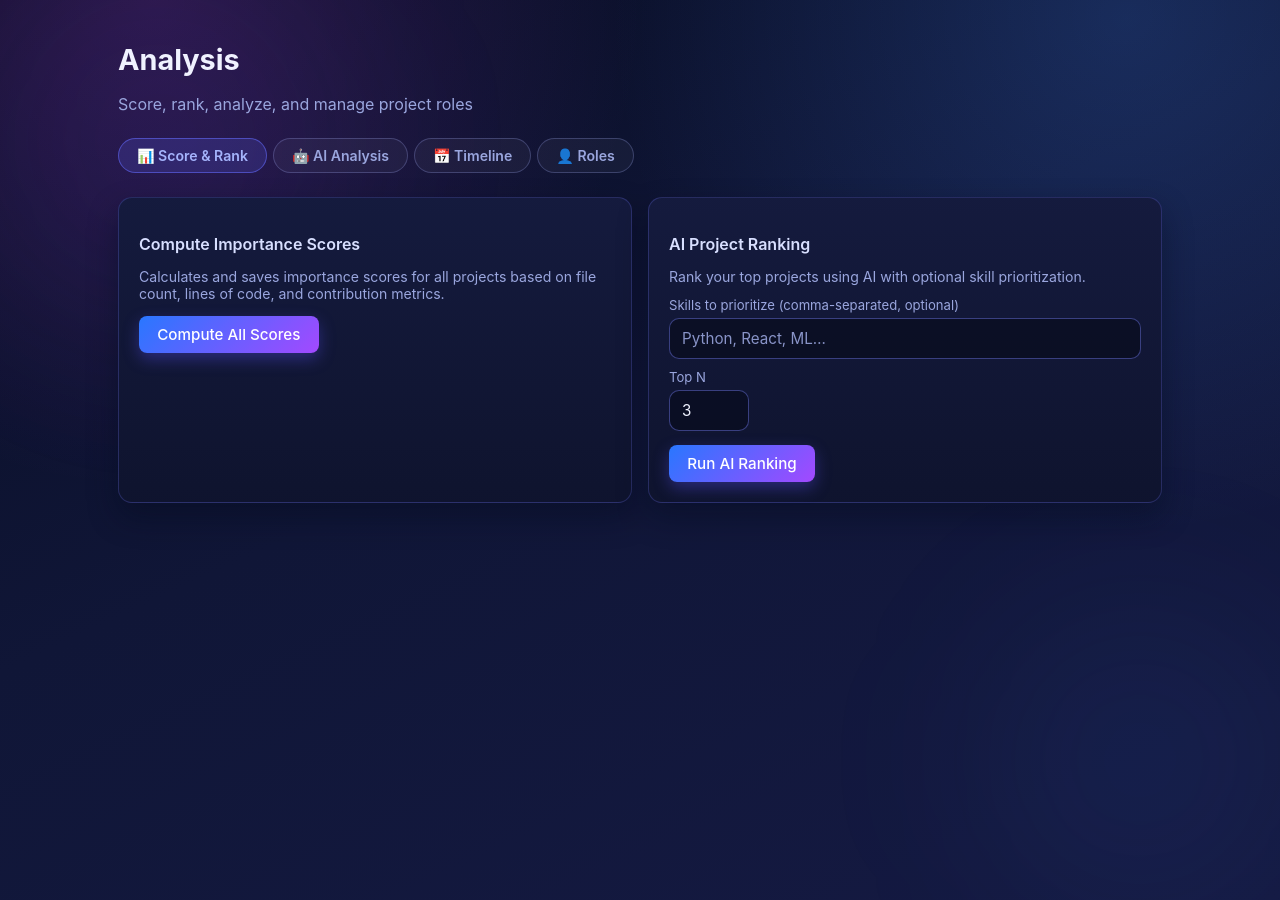
Analysis - Timeline tab › switches to Timeline tab and shows empty state
Step 1. Click the button "📅 Timeline" → (473,155), box top-left (414, 138), bottom-right (531, 173)
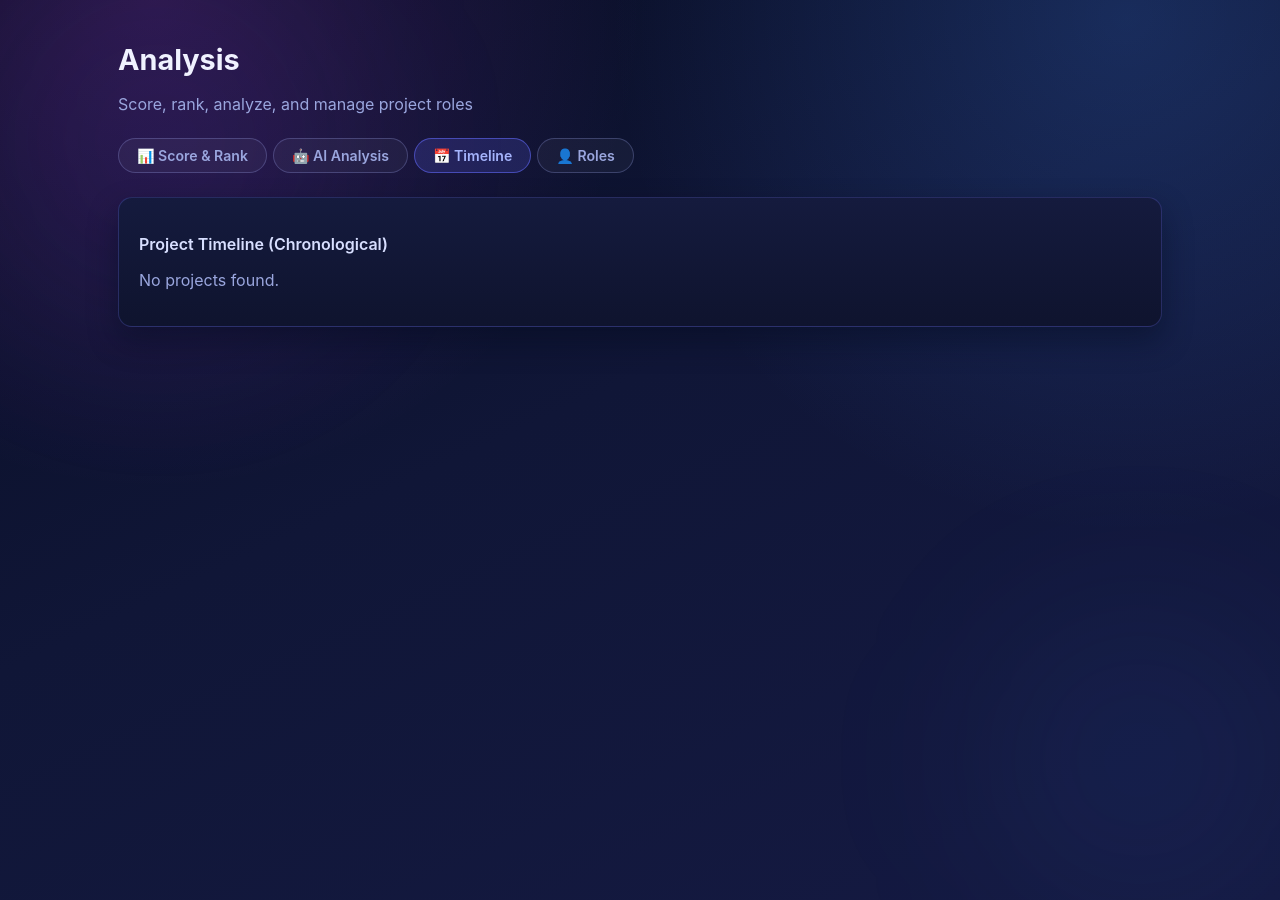
Result: the text "No projects found." is shown at top-left (139, 270), bottom-right (279, 290)
